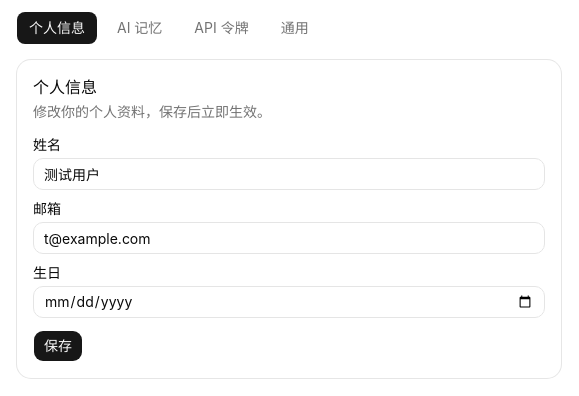
SettingsPage › 令牌 tab：列出令牌（prefix 展示 + 已撤销标记）
Click the button "API 令牌".
click(222, 28)  # box [182, 12, 261, 44]
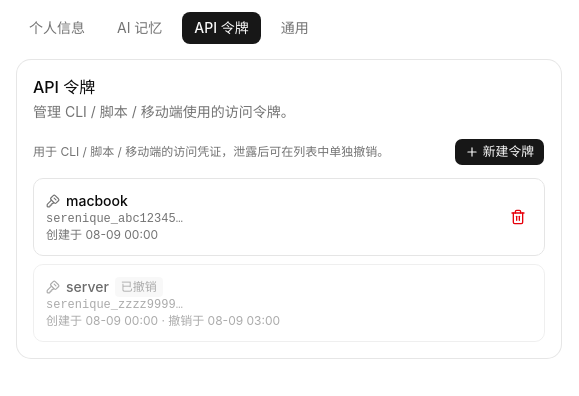
Now the text "macbook" is shown, box [66, 191, 128, 211]
Now the text "serenique_abc12345…" is shown, box [46, 211, 183, 227]
Now the text "已撤销" is shown, box [115, 277, 163, 297]
